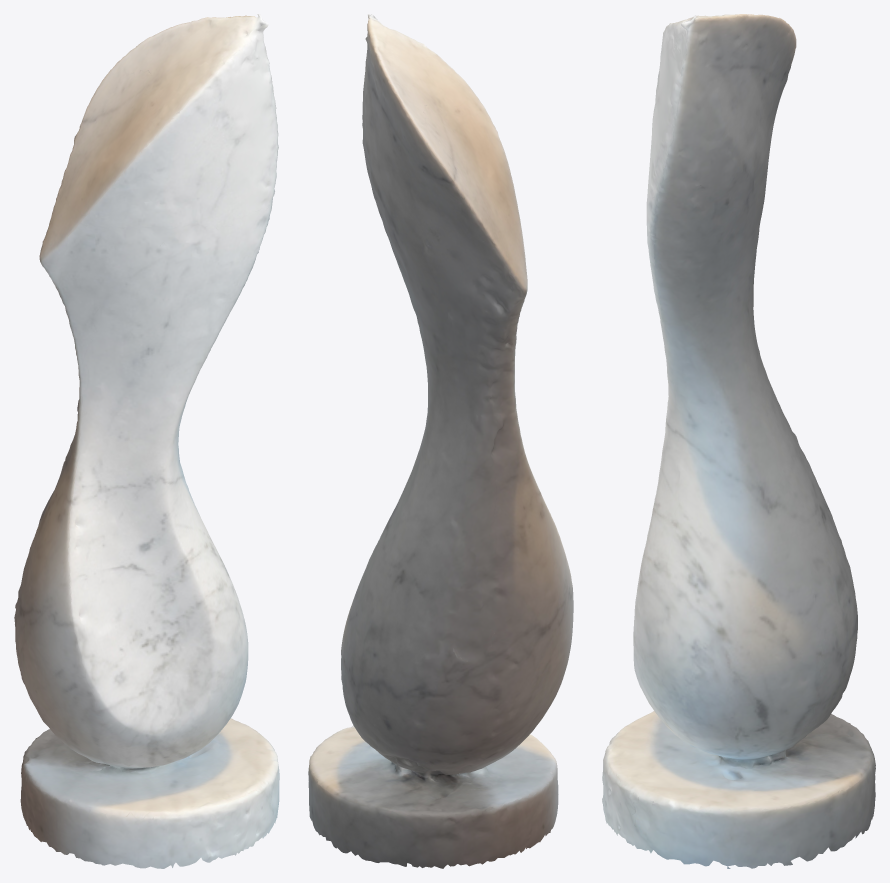
File: sculpture_finalagainwowimtried.glb
The picture shows the model from 3 angles, left to right: view 1: azimuth 30°, elevation 25°; view 2: azimuth 150°, elevation 25°; view 3: azimuth 270°, elevation 25°; orthographic projection. The views are drawn at different scales.
Parts seen in each view (by area): view 1: Object_2; view 2: Object_2; view 3: Object_2.
Part boxes in pixels (x1,y1,x2,y2): Object_2: (14, 14, 279, 868); Object_2: (308, 14, 573, 868); Object_2: (602, 14, 875, 868).
Size of the model in its own units: 0.1124 by 0.3593 by 0.1058.
1 material, 1 textured.
